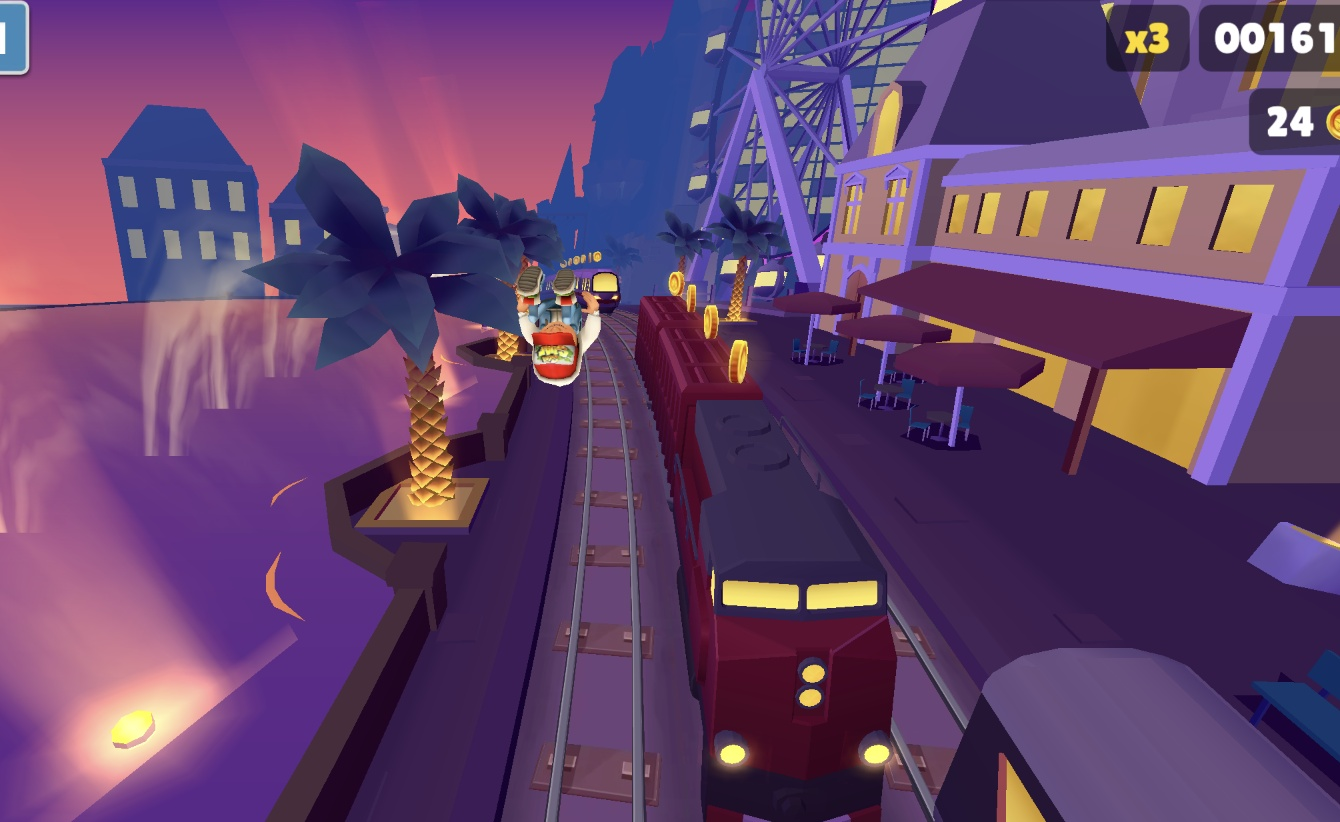train: (641, 299, 900, 818), (945, 656, 1277, 822), (586, 269, 623, 314)
